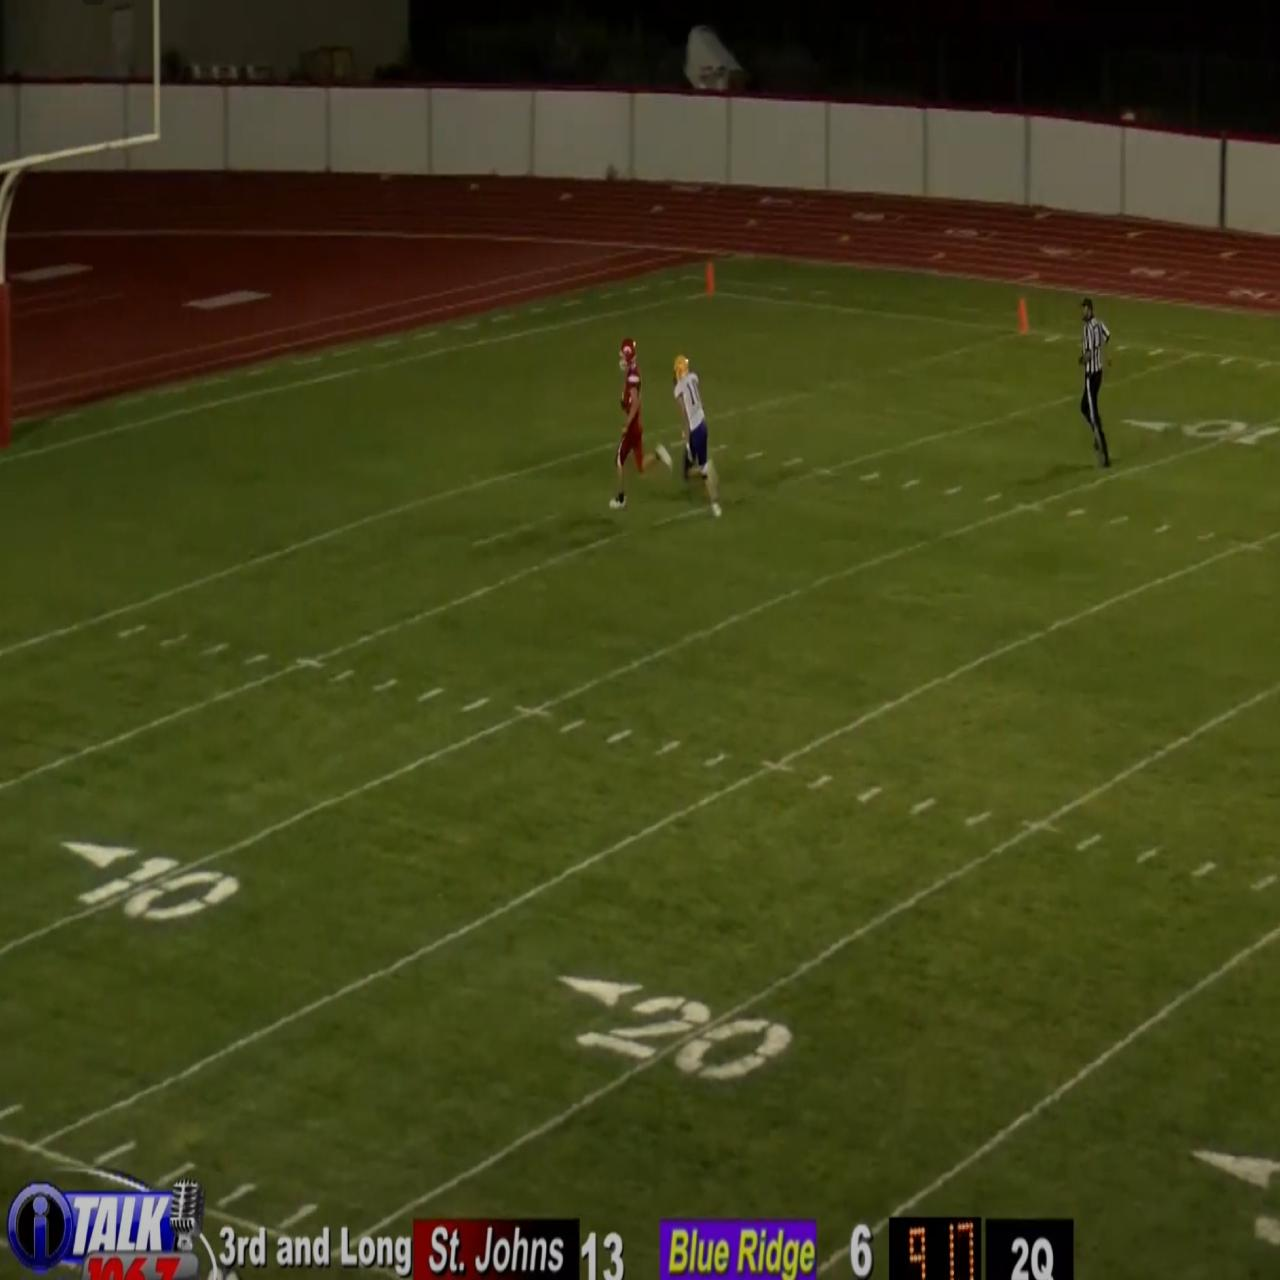10L: (60, 836, 240, 921), (1122, 416, 1280, 448)
20L: (558, 972, 791, 1084)
